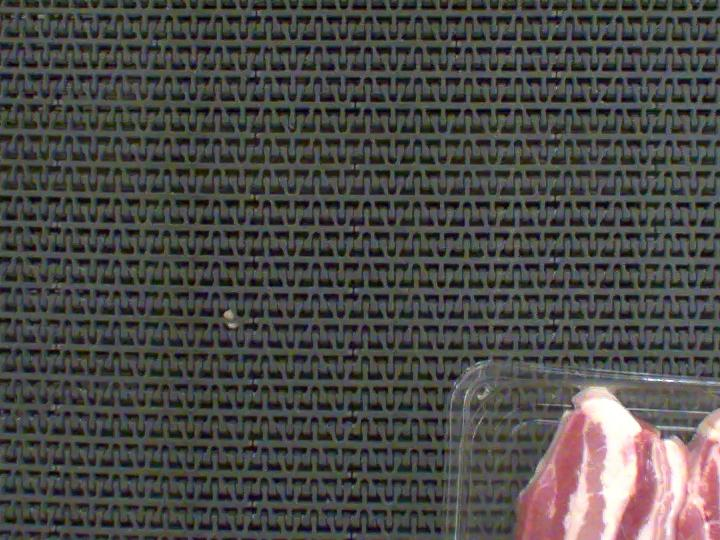packaging-error: (573, 372, 618, 398)
